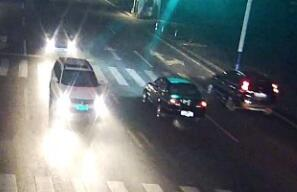car: (202, 64, 282, 114), (48, 53, 106, 118), (141, 73, 209, 124), (43, 24, 78, 48)
